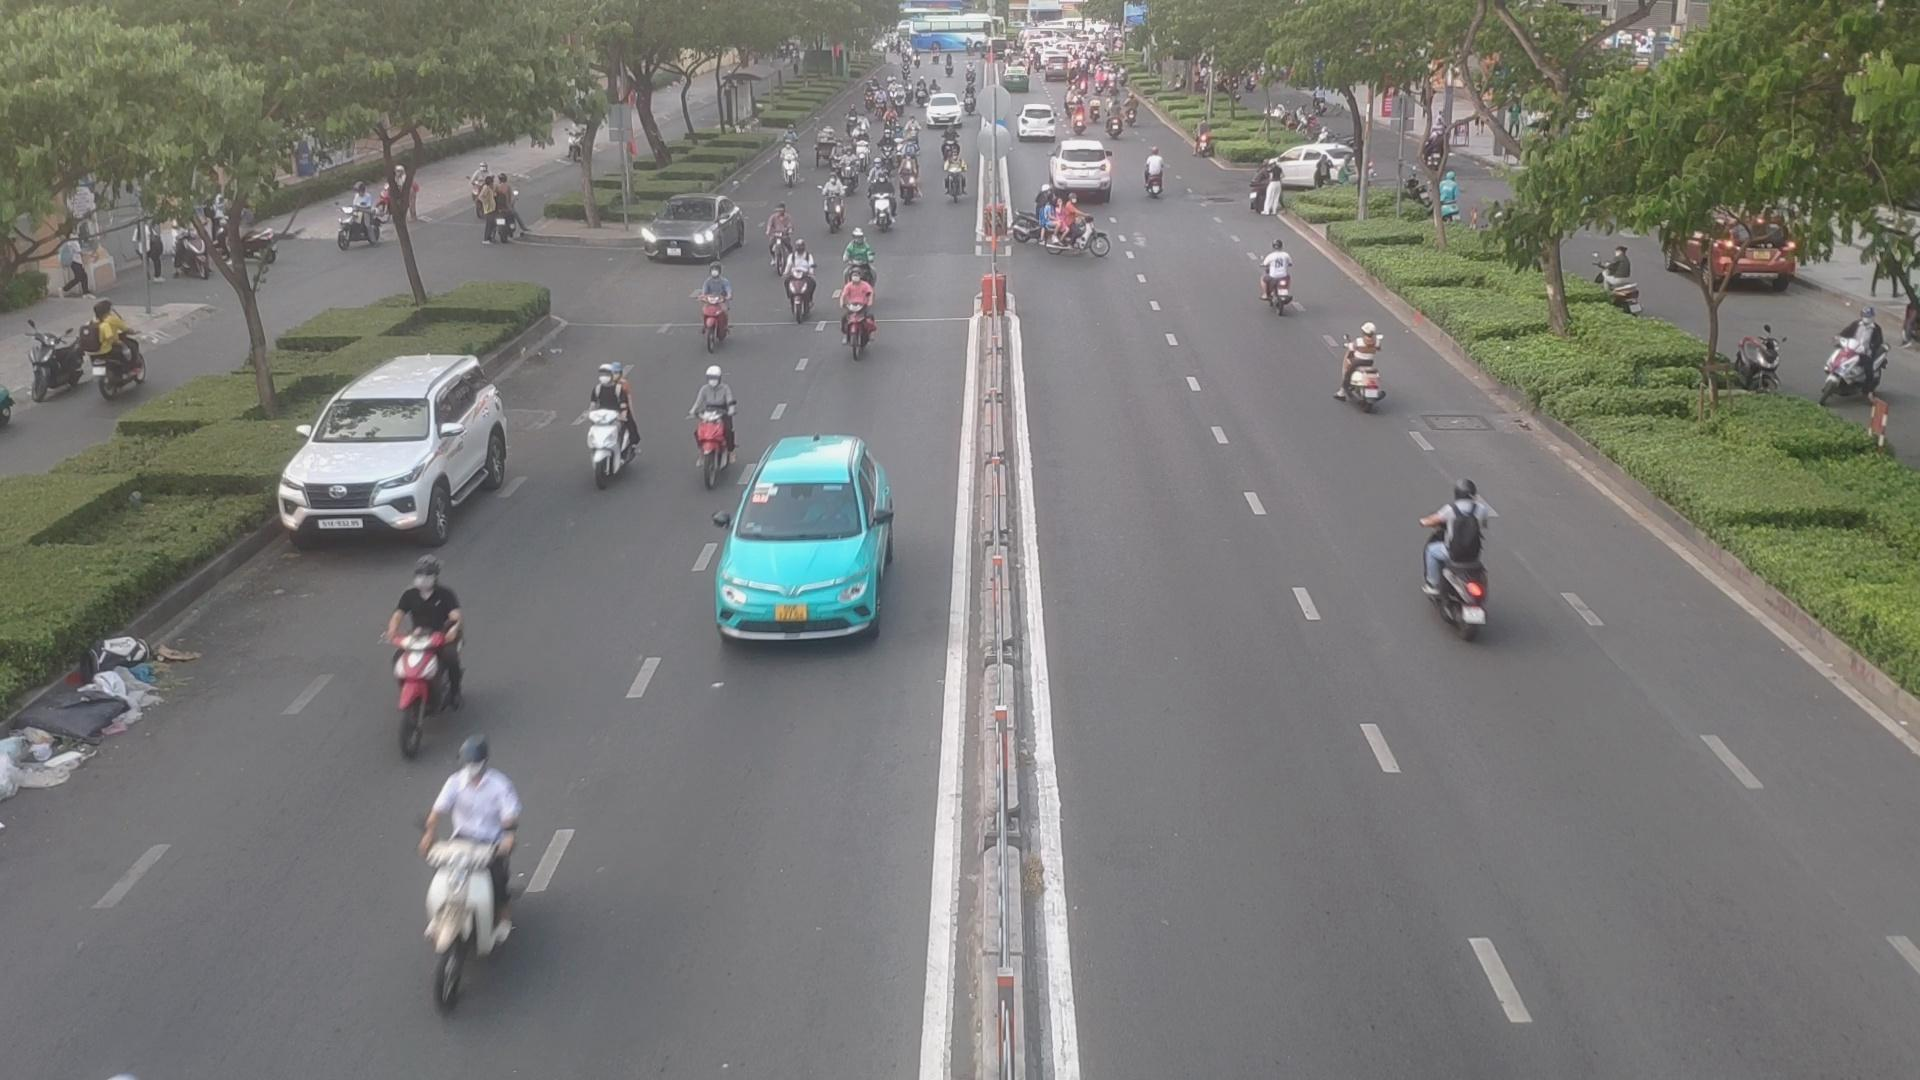car: (273, 351, 517, 541), (717, 433, 903, 638), (634, 195, 746, 262), (1255, 140, 1364, 194), (1052, 140, 1117, 193)
motorbike: (431, 733, 520, 1029), (386, 564, 487, 746), (1408, 468, 1503, 640), (593, 348, 634, 509), (691, 371, 741, 479), (1333, 320, 1386, 401), (1040, 196, 1105, 256), (840, 260, 880, 351), (786, 235, 820, 328), (1257, 229, 1295, 313), (840, 222, 878, 295), (698, 274, 736, 344), (767, 200, 795, 269), (869, 173, 899, 229), (822, 171, 848, 228), (777, 138, 804, 189), (1145, 146, 1164, 198), (945, 152, 967, 196), (899, 152, 916, 199), (841, 149, 858, 193), (942, 123, 959, 157), (831, 141, 845, 177), (878, 131, 891, 169), (855, 133, 869, 167)
